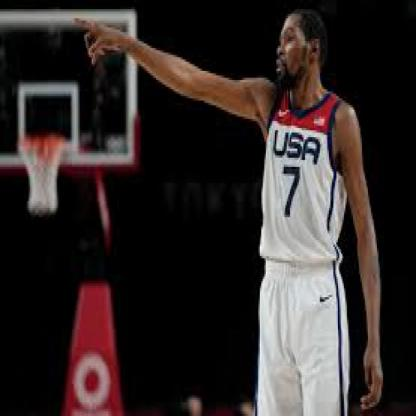rim: (15, 132, 69, 156)
